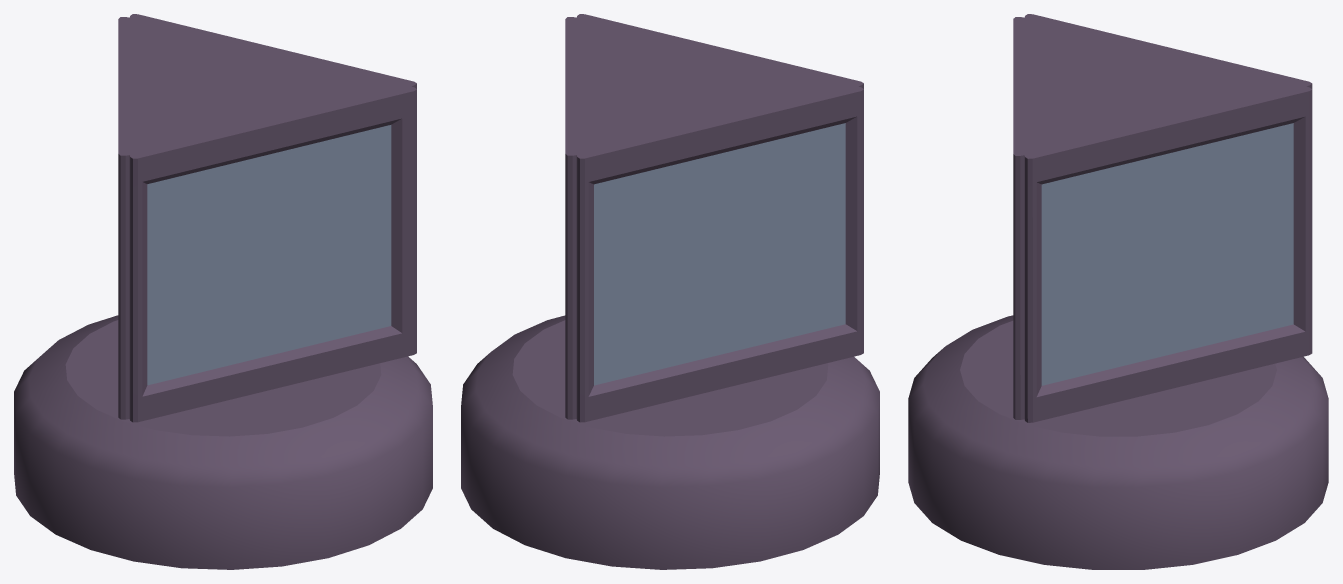
Rendered from miro_1.fbx.
The picture shows the model from 3 angles, left to right: view 1: azimuth 30°, elevation 25°; view 2: azimuth 150°, elevation 25°; view 3: azimuth 270°, elevation 25°; orthographic projection.
Visible parts, largest first — view 1: стойка для зеркал, зеркала; view 2: стойка для зеркал, зеркала; view 3: стойка для зеркал, зеркала.
Boxes of the visible parts, box(x1,y1,x2,y2) form: стойка для зеркал: box(14, 14, 432, 569); зеркала: box(147, 125, 391, 385); стойка для зеркал: box(461, 14, 879, 569); зеркала: box(594, 123, 845, 385); стойка для зеркал: box(908, 14, 1328, 569); зеркала: box(1041, 123, 1293, 385).
Bounding box in the file's own units: 165 × 172 × 166.
